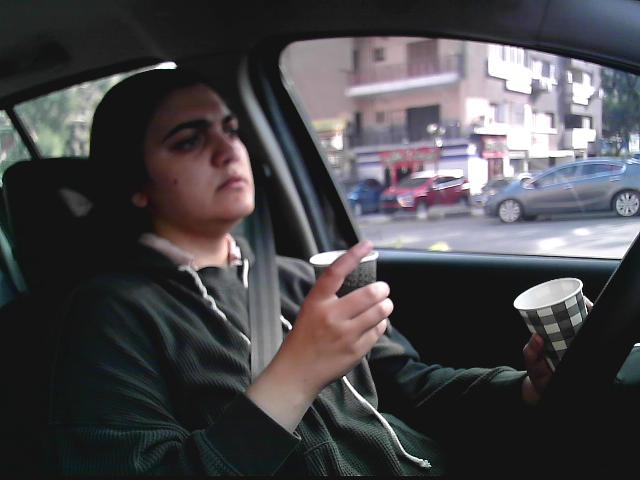Drinking: (510, 275, 600, 387), (310, 243, 382, 349)
